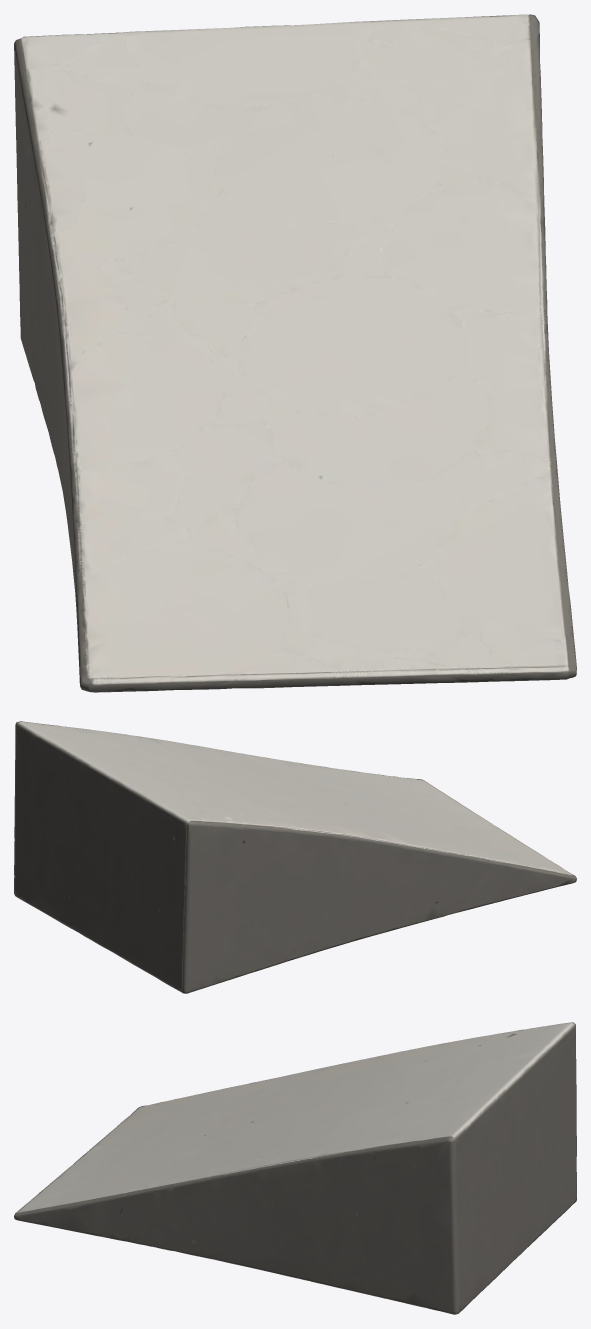
The model's file is model-27-ramp-wide.glb.
3 views of the same model, one above another, from view 1: azimuth 30°, elevation 25°; view 2: azimuth 150°, elevation 25°; view 3: azimuth 270°, elevation 25° (orthographic). The views are drawn at different scales.
Parts seen in each view (by area): view 1: node_0; view 2: node_0; view 3: node_0.
Boxes of the visible parts, x1,y1,x2,y2 form: node_0: (14,14,576,692); node_0: (14,721,576,993); node_0: (14,1022,576,1314).
Bounding box in the file's own units: 0.9526 × 0.387 × 1.11.
Materials: 1 (1 with a texture image).
